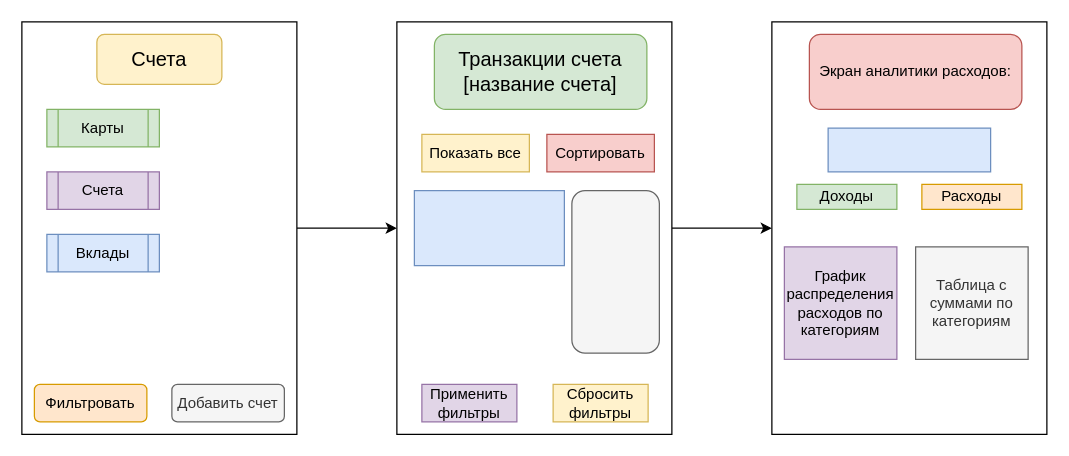
The diagram is 1069 pixels wide and 456 high, and some of its shapes have lost their labels. Each missing label, with the centre of its shape:
"Выбор периода времени для анализа" belongs at point (909, 149).
"Список транзакций" belongs at point (488, 227).
"Фильтры (дата, категория, сумма)" belongs at point (615, 271).
